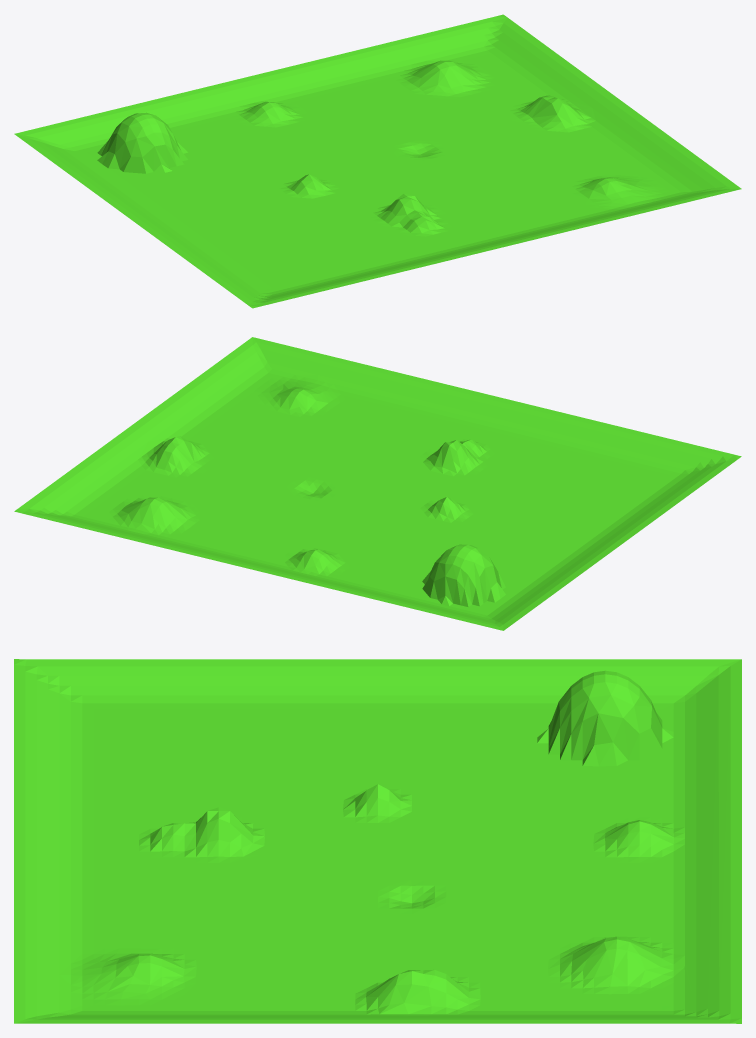
The model's file is groundLevel01.glb.
3 renders of one model, top to bottom at view 1: azimuth 30°, elevation 25°; view 2: azimuth 150°, elevation 25°; view 3: azimuth 270°, elevation 25°, orthographic. The views are drawn at different scales.
Parts seen in each view (by area): view 1: Plane; view 2: Plane; view 3: Plane.
Boxes of the visible parts, bbox=[...] form: Plane: bbox=[14, 14, 741, 308]; Plane: bbox=[14, 337, 741, 630]; Plane: bbox=[14, 659, 741, 1023].
Bounding box in the file's own units: 771 × 68.47 × 650.
